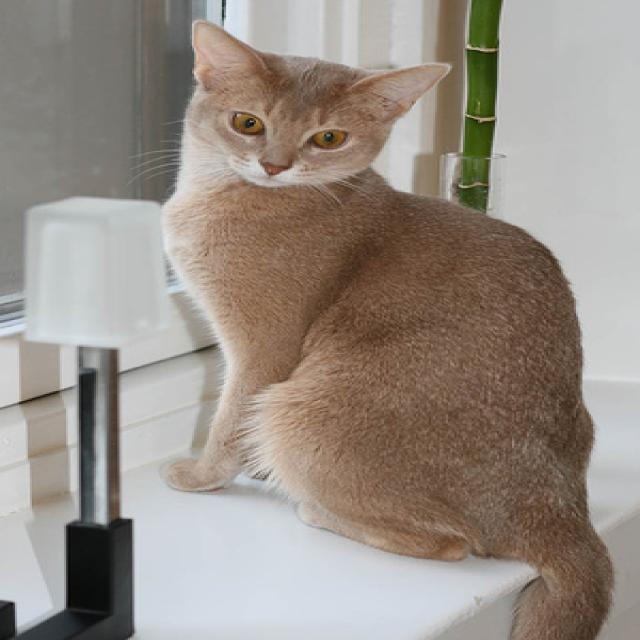Abyssinian: (145, 10, 634, 640)
